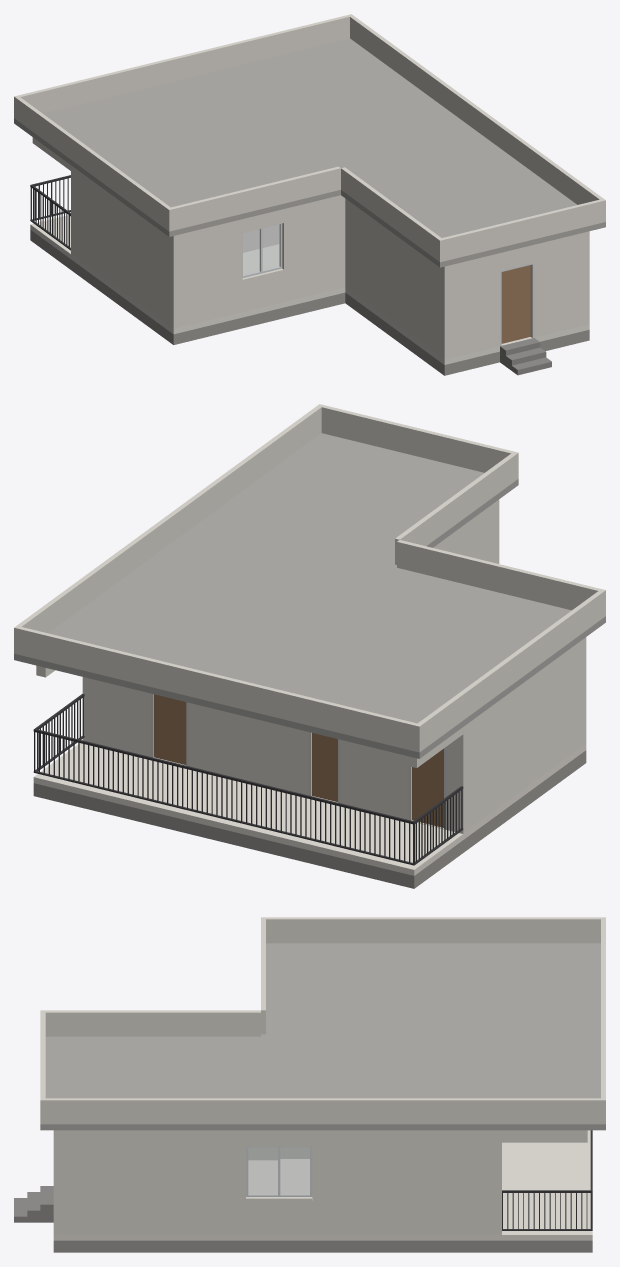
The picture shows the model from 3 angles, top to bottom: view 1: azimuth 30°, elevation 25°; view 2: azimuth 150°, elevation 25°; view 3: azimuth 270°, elevation 25°; orthographic projection. The views are drawn at different scales.
Visible parts, largest first — view 1: Roof, Walls, Parapet, Plinth, Floor, Doors, Rail, Glass, Steps, Frames, Lintels; view 2: Roof, Parapet, Walls, Floor, Rail, Plinth, Doors, Frames; view 3: Roof, Walls, Parapet, Floor, Plinth, Glass, Rail, Beams, Steps, Frames.
Part boxes in pixels (x1,y1,x2,y2): Roof: (14,38,605,267); Walls: (71,165,589,359); Parapet: (14,14,605,262); Plinth: (30,230,589,375); Floor: (30,215,589,364); Doors: (501,265,530,343); Rail: (30,175,70,250); Glass: (243,224,279,275); Steps: (500,338,551,375); Frames: (242,223,534,345); Lintels: (242,218,534,270); Roof: (14,433,605,758); Parapet: (14,404,605,752); Walls: (82,499,586,833); Floor: (33,743,586,875); Rail: (33,693,463,865); Plinth: (33,750,586,888); Doors: (154,694,443,827); Frames: (151,693,446,828); Roof: (40,943,605,1130); Walls: (53,1130,501,1234); Parapet: (40,917,605,1124); Floor: (53,1130,592,1240); Plinth: (53,1240,592,1252); Glass: (248,1147,309,1194); Rail: (502,1130,592,1230); Beams: (246,1130,587,1142); Steps: (14,1186,53,1222); Frames: (246,1146,312,1196).
Bounding box in the file's own units: 9.83 × 3.95 × 13.43.
